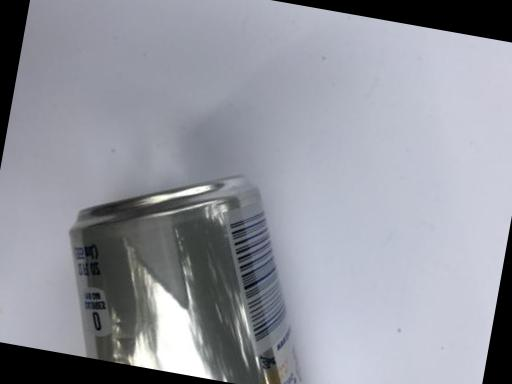metal: (30, 112, 374, 384)
